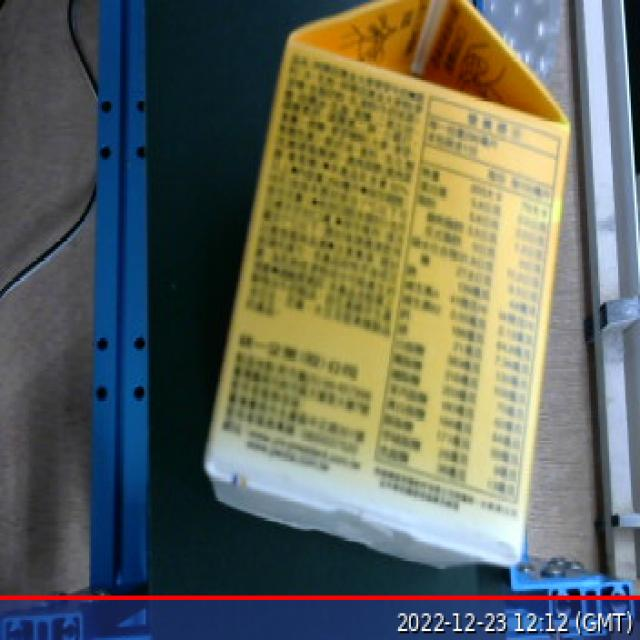non_white_jug: (191, 0, 583, 599)
